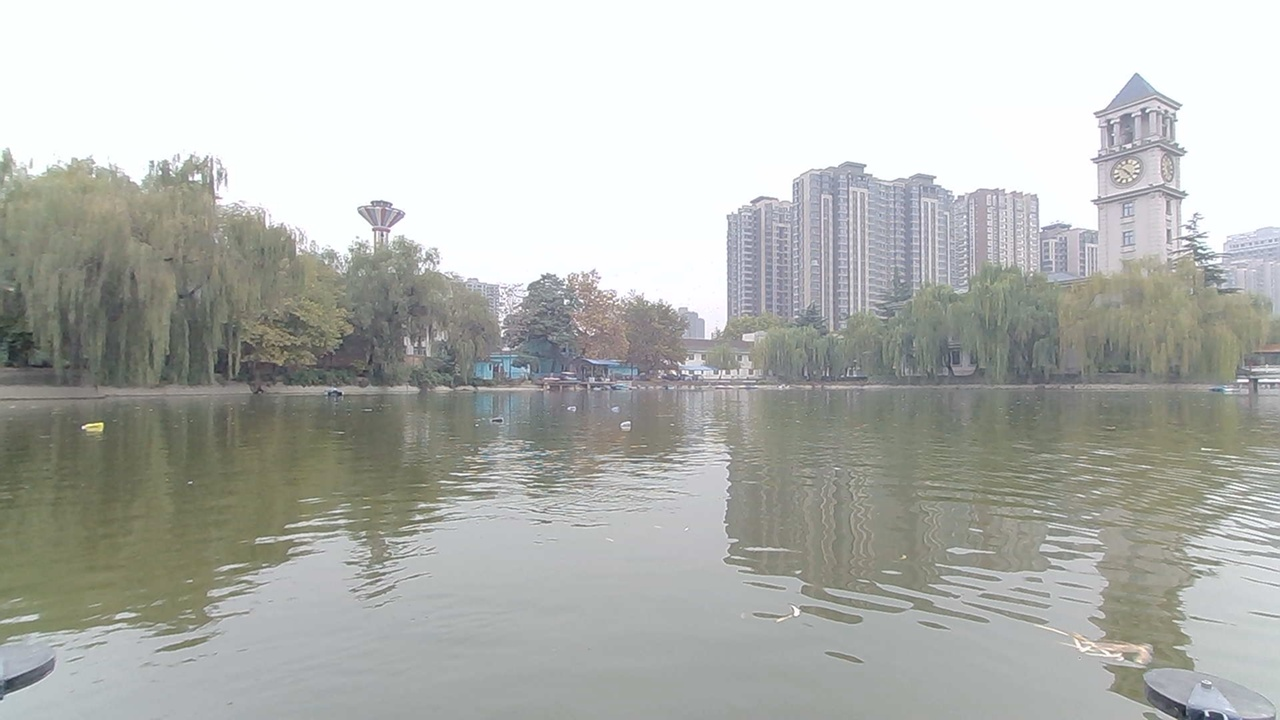bottle: (80, 416, 110, 440), (484, 407, 514, 429), (612, 416, 642, 437), (601, 399, 634, 416), (562, 402, 584, 421)
